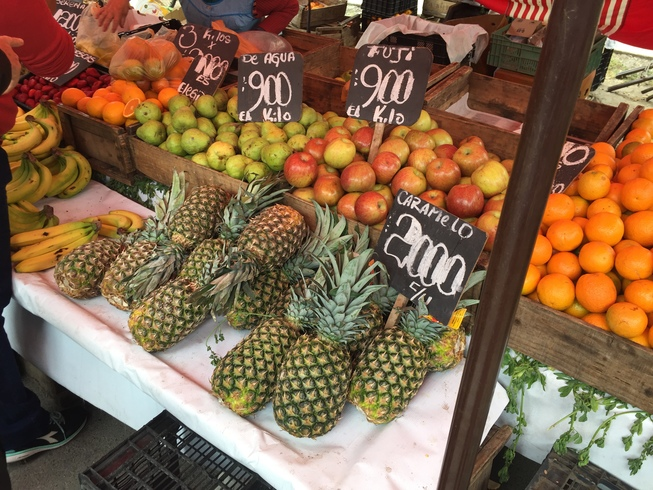precio: (378, 186, 484, 338), (342, 37, 433, 127), (166, 18, 237, 106), (234, 52, 304, 127), (38, 37, 100, 92), (547, 136, 599, 197), (49, 1, 93, 34)
